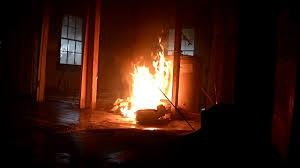fire: (116, 44, 172, 117)
